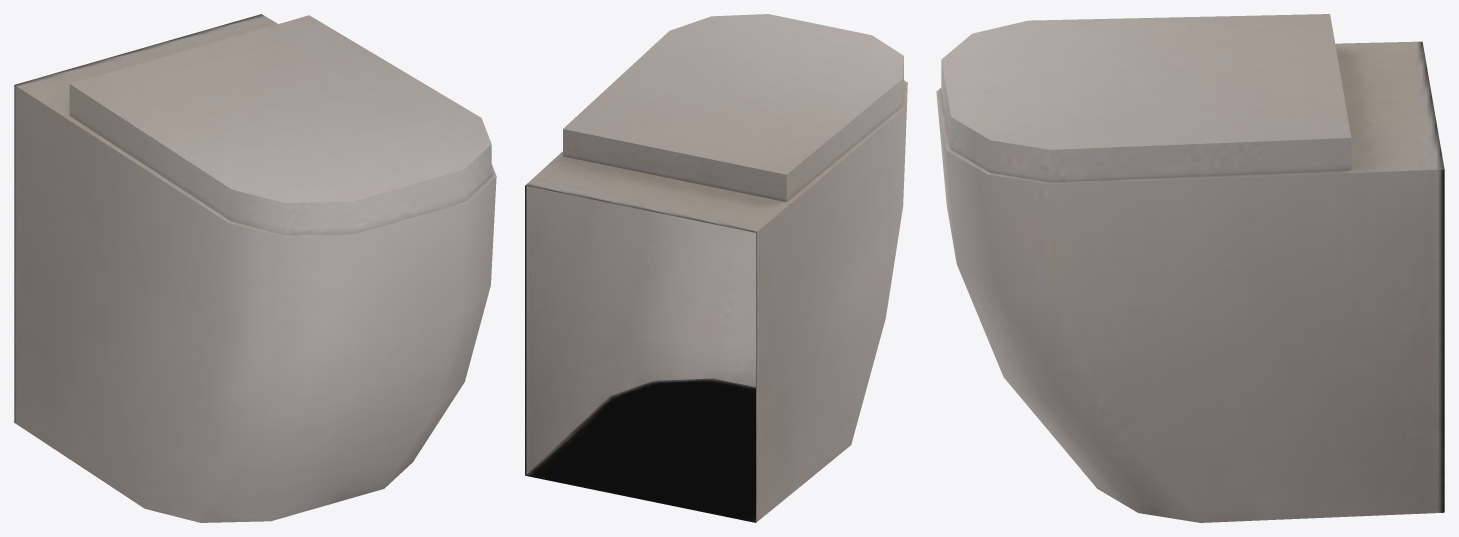
The picture shows the model from 3 angles, left to right: view 1: azimuth 30°, elevation 25°; view 2: azimuth 150°, elevation 25°; view 3: azimuth 270°, elevation 25°; orthographic projection. The views are drawn at different scales.
Visible parts, largest first — view 1: wc1; view 2: wc1; view 3: wc1.
Boxes of the visible parts, x1=… form: wc1: x1=14, y1=14, x2=496, y2=522; wc1: x1=525, y1=14, x2=907, y2=522; wc1: x1=936, y1=14, x2=1444, y2=522.
Size of what is drawn, in the model's own units: 0.3906 by 0.4793 by 0.5876.
Materials: 1 (1 with a texture image).
